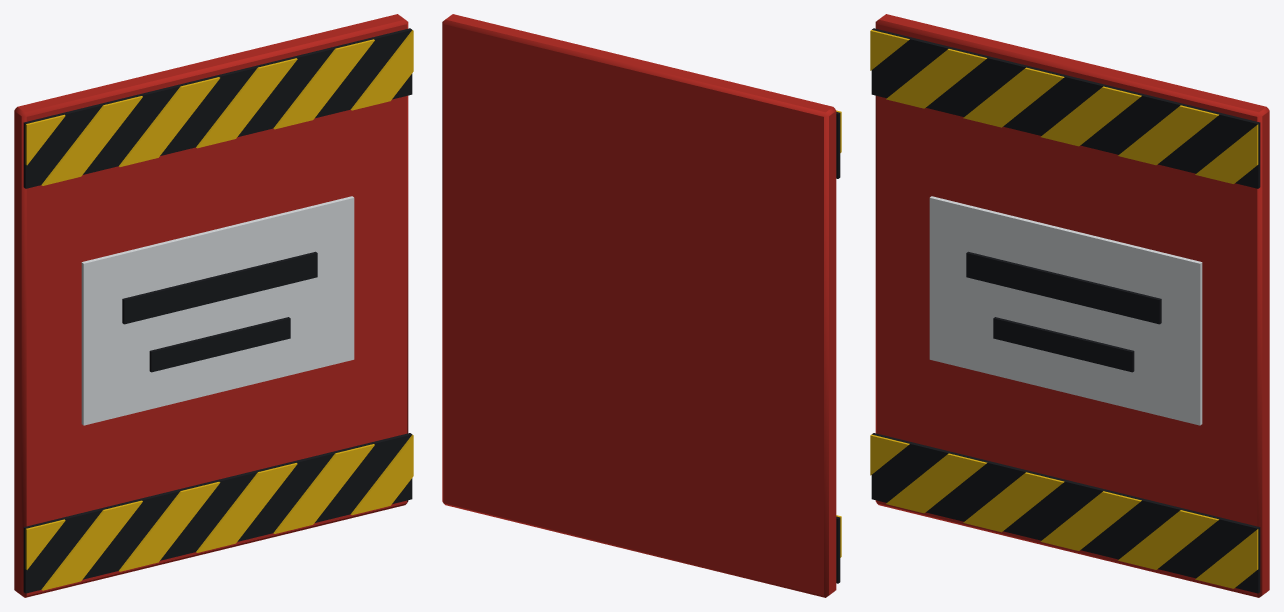
File: wallpanel_hazard_trim.glb
3 renders of one model, left to right at view 1: azimuth 30°, elevation 25°; view 2: azimuth 150°, elevation 25°; view 3: azimuth 330°, elevation 25°, orthographic.
Parts seen in each view (by area): view 1: wallpanel_hazard_trim; view 2: wallpanel_hazard_trim; view 3: wallpanel_hazard_trim.
Boxes of the visible parts, x1,y1,x2,y2 form: wallpanel_hazard_trim: [14, 14, 413, 597]; wallpanel_hazard_trim: [442, 14, 841, 597]; wallpanel_hazard_trim: [870, 14, 1269, 597].
Bounding box in the file's own units: 1 × 1.2 × 0.068.
